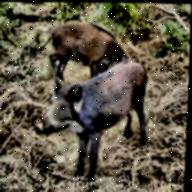boar: (37, 58, 179, 164), (33, 11, 123, 80)
